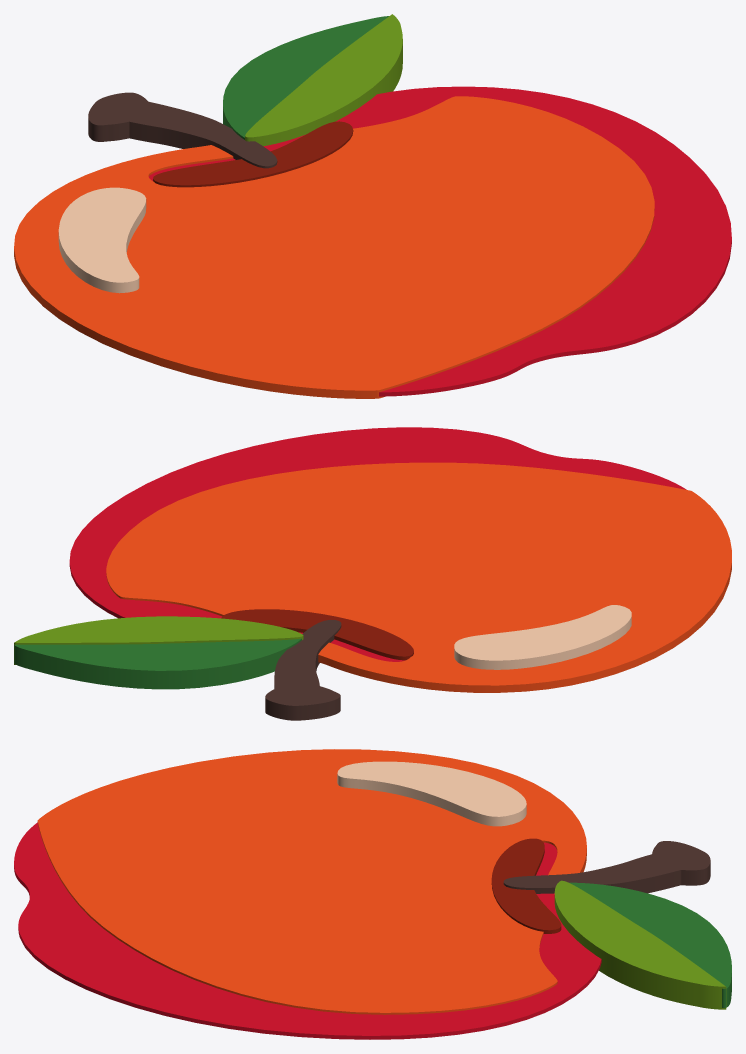
The model's file is emoji_u1f34e.glb.
3 renders of one model, top to bottom at view 1: azimuth 30°, elevation 25°; view 2: azimuth 150°, elevation 25°; view 3: azimuth 270°, elevation 25°, orthographic. The views are drawn at different scales.
Parts seen in each view (by area): view 1: emoji_u1f34e; view 2: emoji_u1f34e; view 3: emoji_u1f34e.
Boxes of the visible parts, <box> form: emoji_u1f34e: <box>14,14,731,398</box>; emoji_u1f34e: <box>14,427,731,720</box>; emoji_u1f34e: <box>14,749,731,1039</box>.
Size of the model in its own units: 0.0319 by 0.0014 by 0.034.
